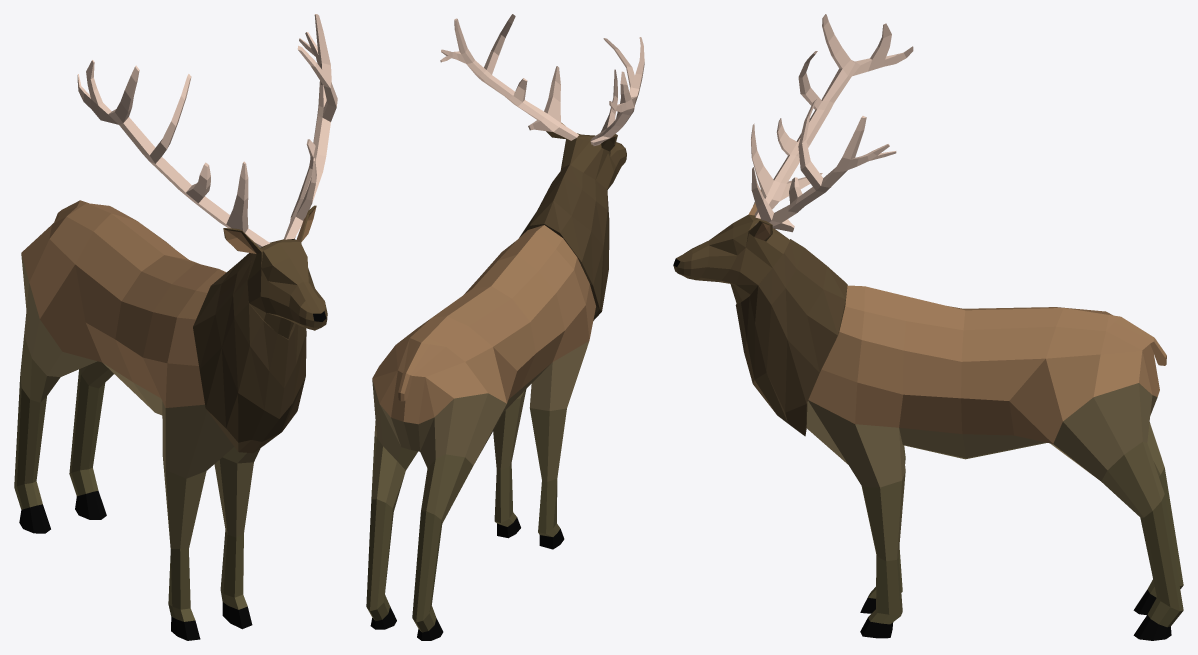
The model's file is deer.glb.
3 views of the same model, side by side, from view 1: azimuth 30°, elevation 25°; view 2: azimuth 150°, elevation 25°; view 3: azimuth 270°, elevation 25° (orthographic). The views are drawn at different scales.
Parts seen in each view (by area): view 1: Deer; view 2: Deer; view 3: Deer.
Boxes of the visible parts, x1,y1,x2,y2 form: Deer: [14, 14, 337, 640]; Deer: [366, 14, 644, 640]; Deer: [673, 14, 1183, 640].
Size of the model in its own units: 0.7082 by 1.86 by 1.53.
1 material, 1 textured.
